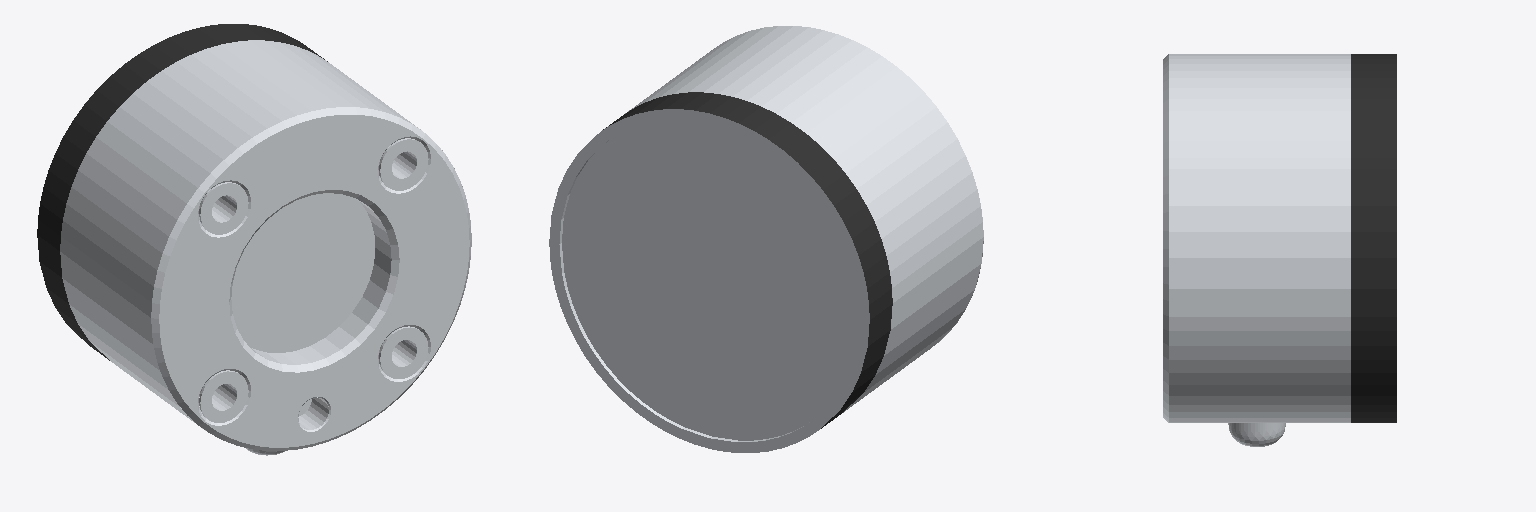
The model's file is FLANGE_m.obj.
The picture shows the model from 3 angles: view 1: azimuth 30°, elevation 25°; view 2: azimuth 150°, elevation 25°; view 3: azimuth 270°, elevation 25°; orthographic projection.
Bounding box in the file's own units: 0.063 × 0.0696 × 0.0398.